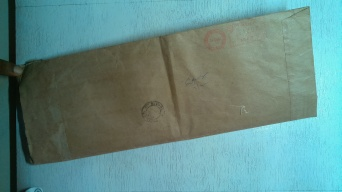l: (23, 4, 321, 165)
